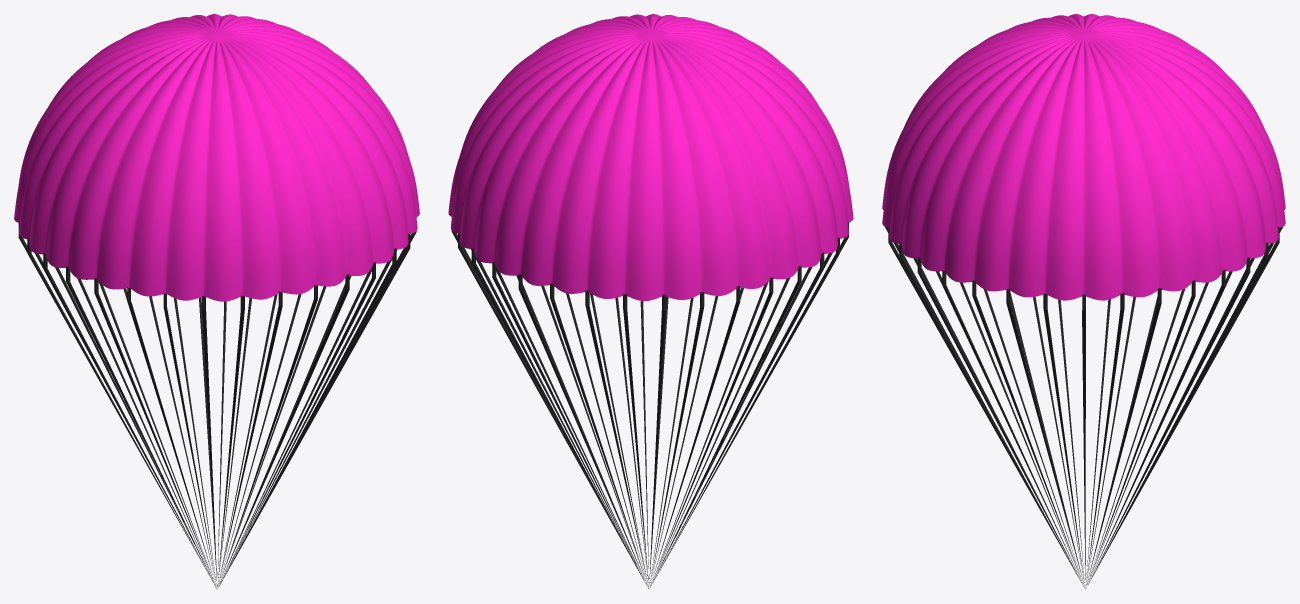
File: ParachuteSecond.fbx
3 views of the same model, side by side, from view 1: azimuth 30°, elevation 25°; view 2: azimuth 150°, elevation 25°; view 3: azimuth 270°, elevation 25° (orthographic).
Parts seen in each view (by area): view 1: ParachuteSecond.001, Cylinder; view 2: ParachuteSecond.001, Cylinder; view 3: ParachuteSecond.001, Cylinder.
Boxes of the visible parts, x1,y1,x2,y2 form: ParachuteSecond.001: [14, 14, 419, 301]; Cylinder: [18, 217, 416, 589]; ParachuteSecond.001: [448, 14, 853, 301]; Cylinder: [451, 217, 848, 588]; ParachuteSecond.001: [882, 14, 1285, 300]; Cylinder: [885, 226, 1282, 588].
Size of the model in its own units: 196 by 298 by 196.
